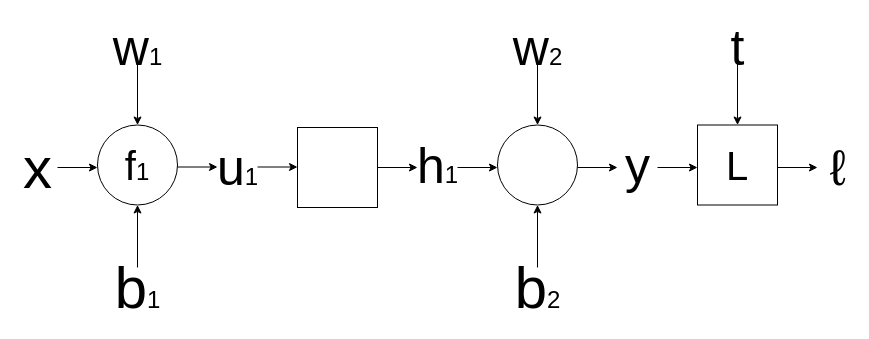
Some shapes in this 869 by 339 pixel diagram are drawn without their labels. Here are the shapes that lost their labels. From the top down, the centre of each, then its label:
the point at 337,167: α 1
the point at 537,164: f 2
